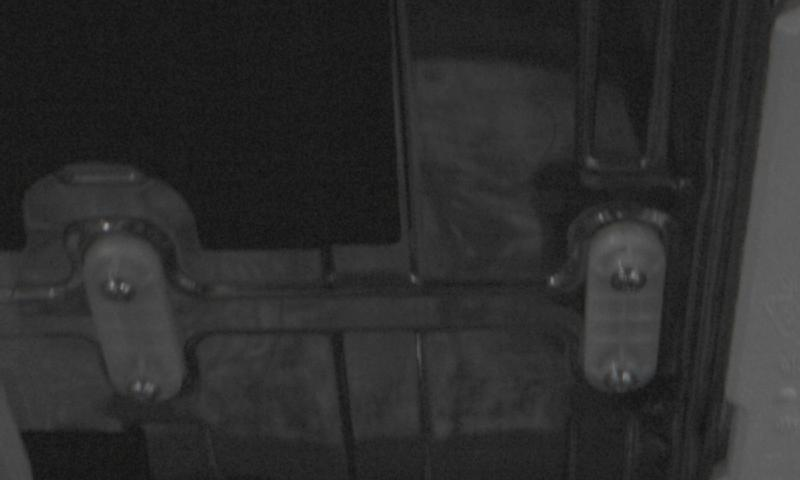vida-ok: (608, 260, 652, 305), (97, 267, 137, 312), (120, 368, 162, 408), (599, 360, 639, 398)
